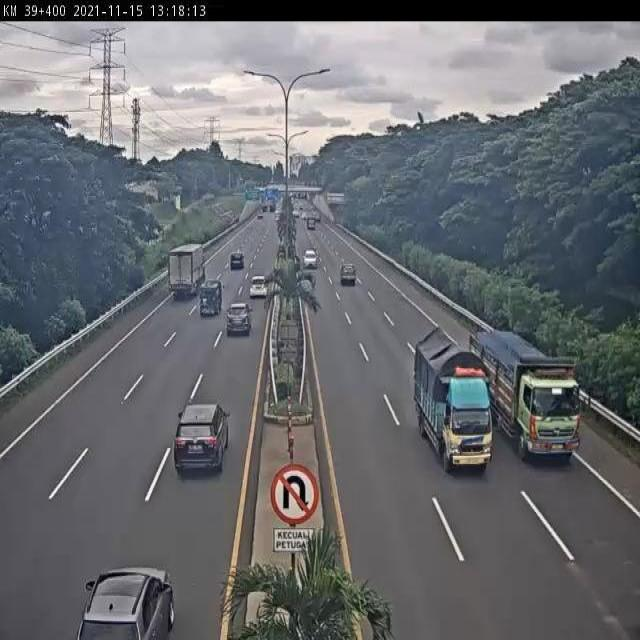Car: (74, 565, 174, 638), (173, 400, 230, 473), (225, 301, 253, 335), (249, 274, 268, 298), (340, 264, 356, 286), (230, 250, 245, 270), (304, 249, 318, 268), (307, 217, 316, 229), (276, 202, 284, 215), (292, 209, 300, 219), (302, 211, 310, 221), (270, 203, 276, 212), (257, 211, 263, 219), (262, 204, 268, 212)
Truck: (471, 325, 580, 462), (409, 319, 495, 480), (168, 244, 206, 301)
